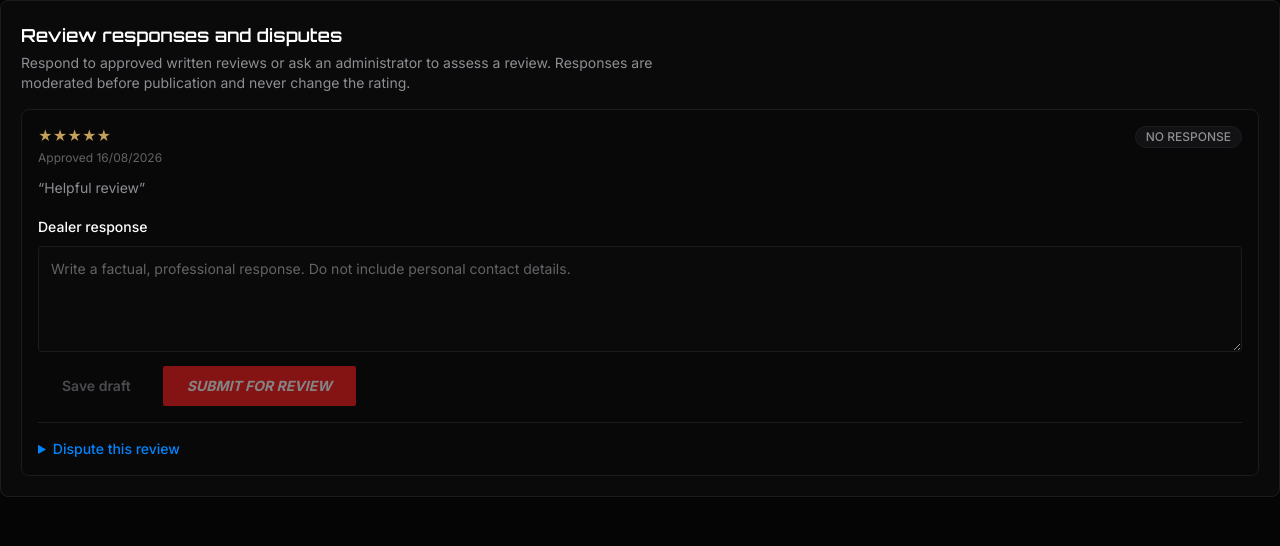
Test: DealerReviewResponseManager MD-REV-002 › loads the winning draft and never claims the unsaved body was saved
Replace the text in the text box labelled "Dealer response" with "My unsaved body" at point(640, 299), box [38, 246, 1242, 352]
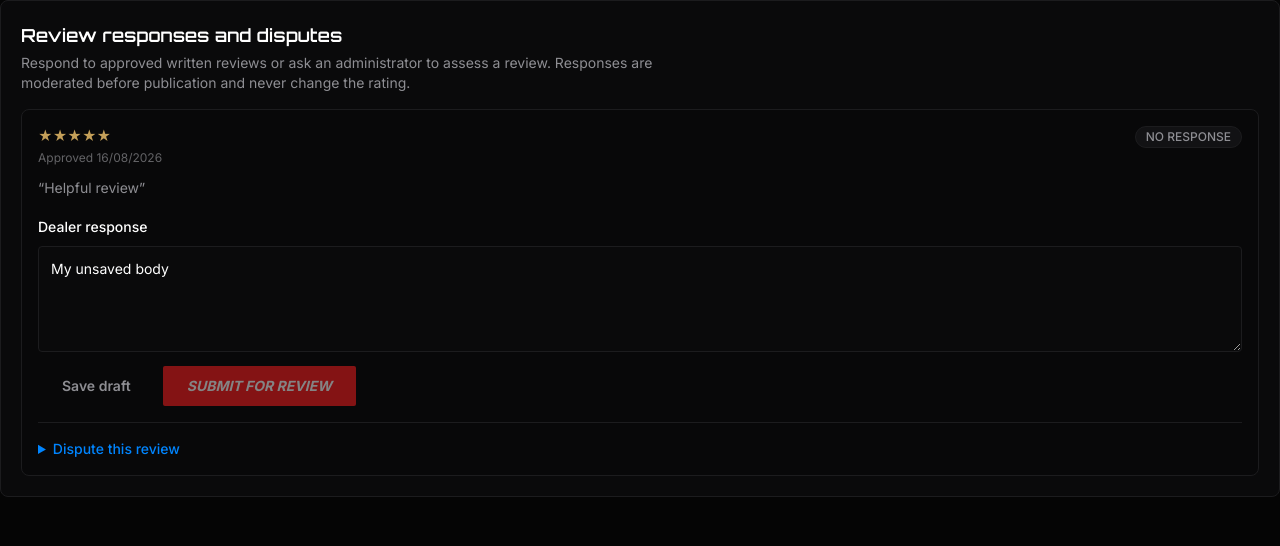
Click the button "Save draft" at point(96, 386), box [38, 366, 155, 406]
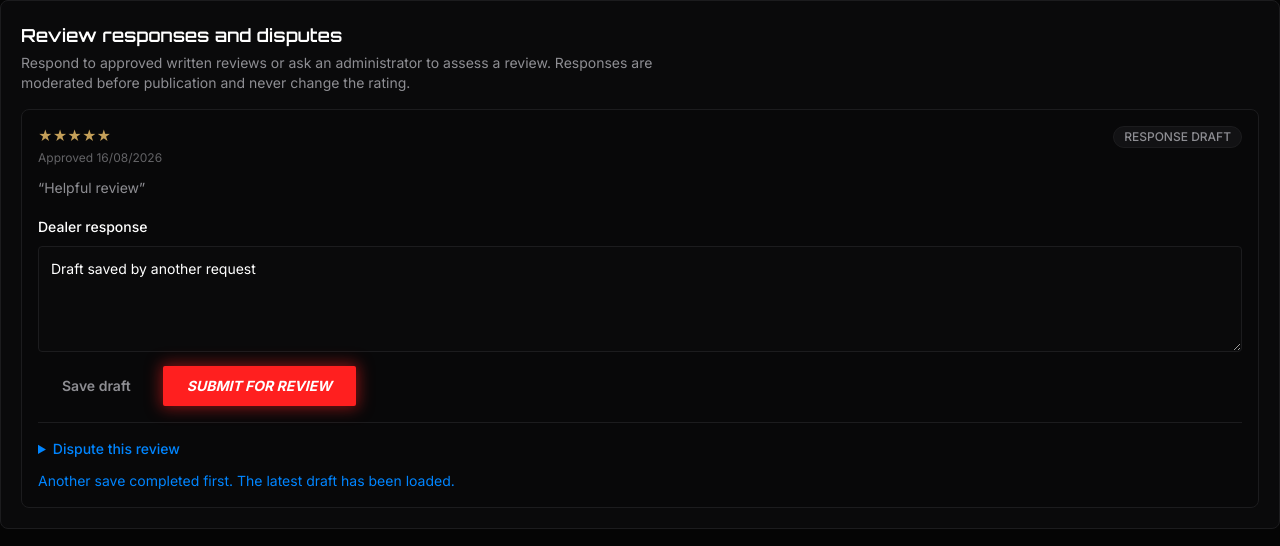
Expected: the text "Another save completed first. The latest draft has been loaded." is shown, [38, 472, 455, 489]
Expected: the text box labelled "Dealer response" holds "Draft saved by another request", [38, 246, 1242, 352]
